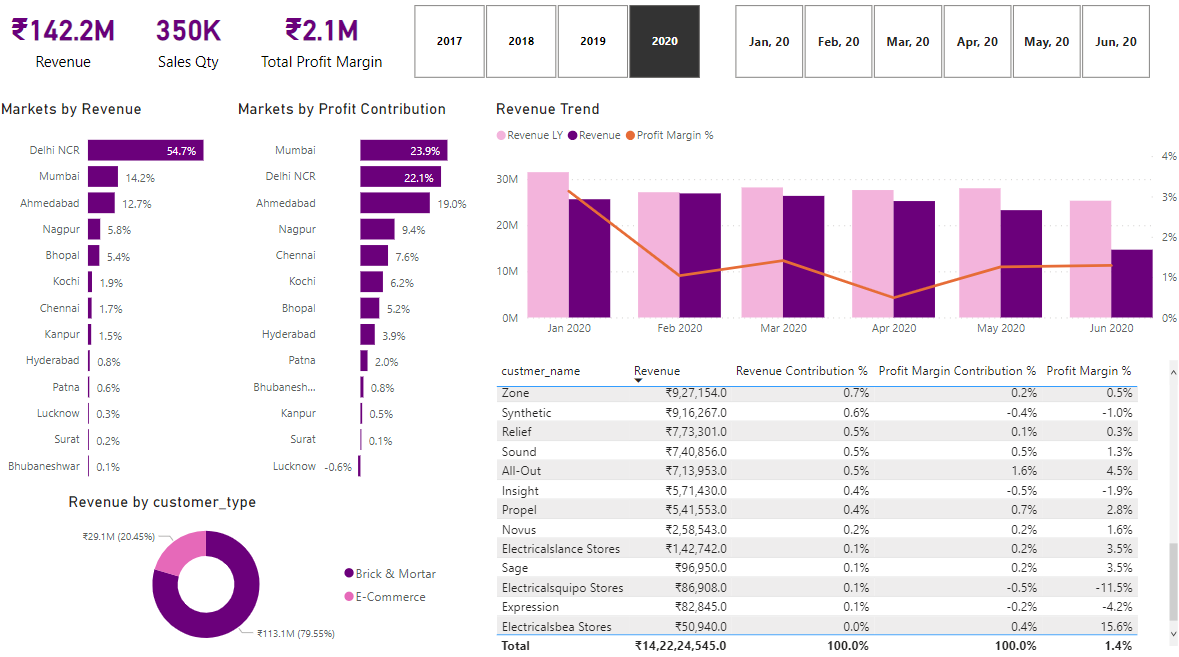

The page's visual inventory and layout, read from the dashboard file:
{"tool":"powerbi","page":{"name":"Page 1","canvas":[1280,720],"ordinal":0},"visuals":[{"type":"card","fields":{"Values":["BaseMesures.Revenue"]},"box":[0,0,144,100.3],"z":0},{"type":"card","fields":{"Values":["BaseMesures.Sales Qty"]},"box":[144,0,126.2,100.3],"z":1000},{"type":"slicer","fields":{"Values":["sales date.year"]},"box":[425.5,8.1,357.6,92.2],"z":2000},{"type":"slicer","fields":{"Values":["sales date.cy_date"]},"box":[771.8,8.1,496.7,92.2],"z":3000},{"type":"lineClusteredColumnComboChart","title":"Revenue Trend","fields":{"Category":["sales date.cy_date"],"Y":["BaseMesures.Revenue LY","BaseMesures.Revenue"],"Y2":["BaseMesures.Profit Margin %"]},"box":[533.9,116.5,745.9,255.6],"z":4000},{"type":"card","fields":{"Values":["BaseMesures.Total Profit Margin"]},"box":[276.7,0,148.9,100.3],"z":5000},{"type":"barChart","title":"Markets by Revenue","fields":{"Y":["BaseMesures.Revenue Contribution %"],"Category":["sales markets.markets_name","sales markets.zone"]},"box":[0,116.5,241.1,423.9],"z":6000},{"type":"barChart","title":"Markets by Profit Contribution ","fields":{"Y":["BaseMesures.Profit Margin Contribution %"],"Category":["sales markets.markets_name"]},"box":[255.6,116.5,260.5,423.9],"z":7000},{"type":"tableEx","fields":{"Values":["sales customers.custmer_name","BaseMesures.Revenue","BaseMesures.Revenue Contribution %","BaseMesures.Profit Margin Contribution %","BaseMesures.Profit Margin %"]},"box":[533.9,393.2,745.9,326.8],"z":8000},{"type":"donutChart","fields":{"Category":["sales customers.customer_type"],"Y":["BaseMesures.Revenue"]},"box":[72.8,540.4,415.8,179.6],"z":9000}]}

Visuals, with their boxes in screenshot pixels (x1, y1, x2, y2), scaled from the page's 1280x720 canvas onto the 1179x657 screenshot:
card - BaseMesures.Revenue: box=[0, 0, 133, 92]
card - BaseMesures.Sales Qty: box=[133, 0, 249, 92]
slicer - sales date.year: box=[392, 7, 721, 92]
slicer - sales date.cy_date: box=[711, 7, 1168, 92]
"Revenue Trend" lineClusteredColumnComboChart: box=[492, 106, 1178, 340]
card - BaseMesures.Total Profit Margin: box=[255, 0, 392, 92]
"Markets by Revenue" barChart: box=[0, 106, 222, 493]
"Markets by Profit Contribution " barChart: box=[235, 106, 475, 493]
tableEx - sales customers.custmer_name x BaseMesures.Revenue: box=[492, 359, 1178, 656]
donutChart - sales customers.customer_type x BaseMesures.Revenue: box=[67, 493, 450, 656]
